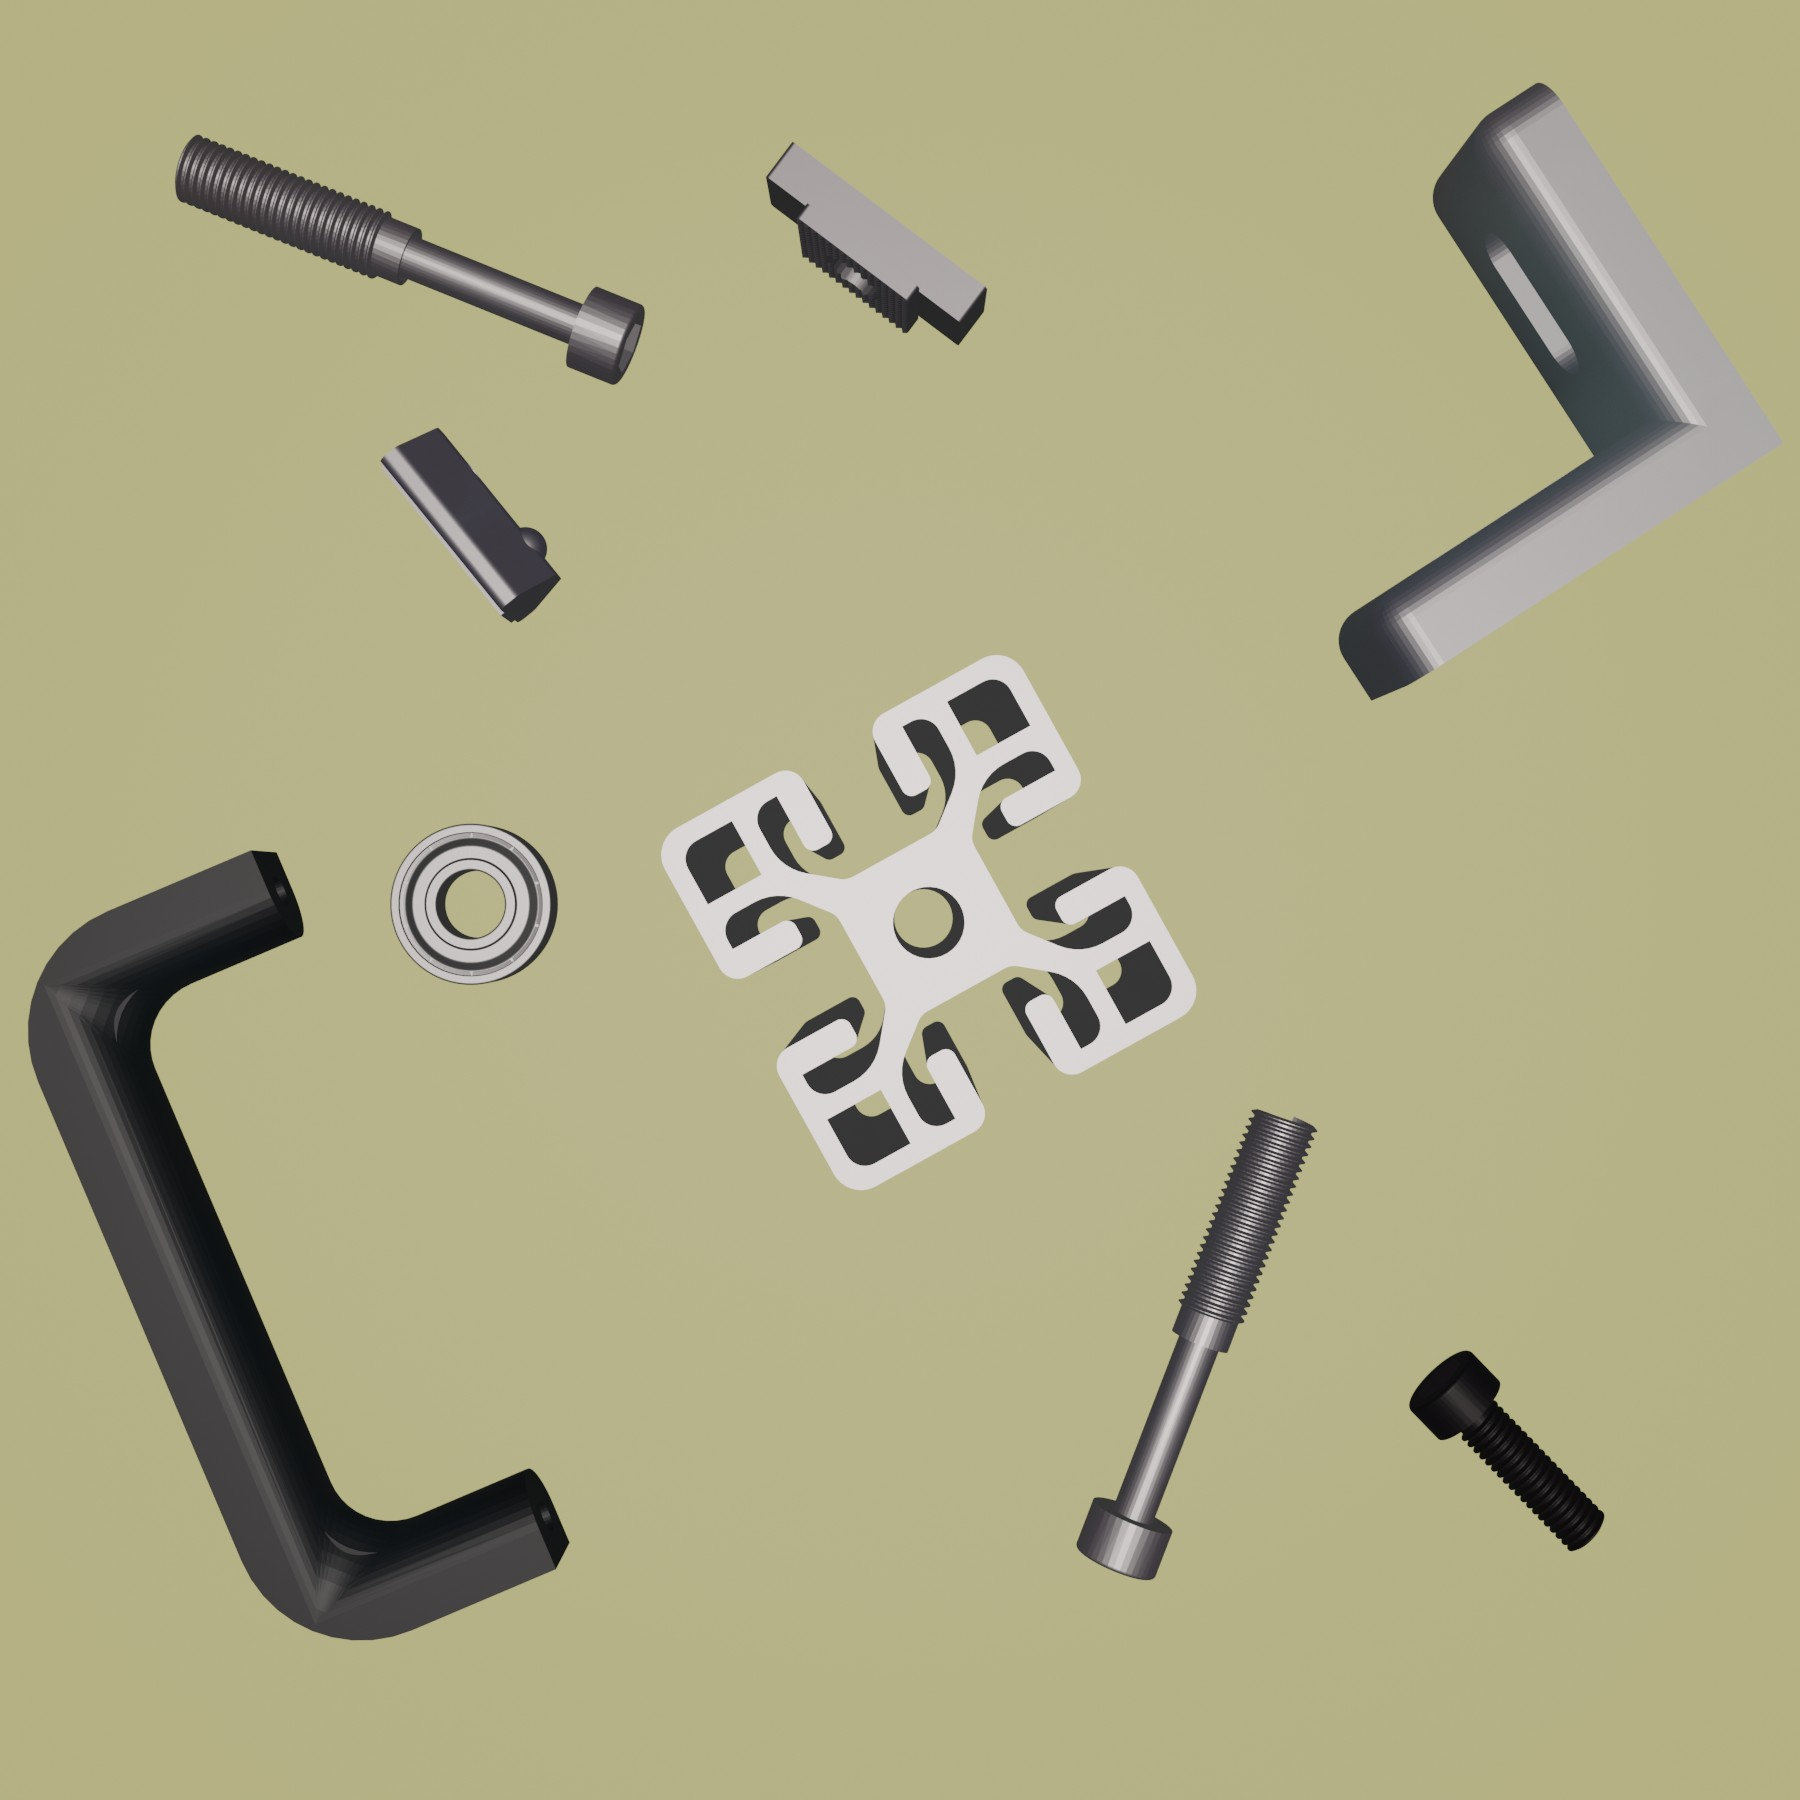Aluminium Extension: (659, 653, 1202, 1195)
Ball Bearing: (387, 819, 559, 986)
Multiwinkel: (1335, 77, 1785, 702)
Pull Handle: (26, 847, 570, 1643)
Shoulder Socket Head Cap Screw: (170, 130, 648, 387), (1075, 1104, 1317, 1584)
Socket Head Cap Screw: (1406, 1347, 1605, 1553)
T Nut Square: (762, 138, 989, 348)
T Spring Nut: (376, 424, 564, 626)
